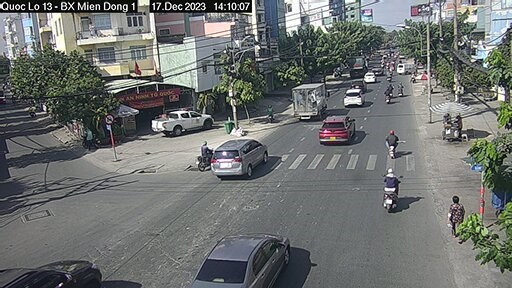car: (200, 231, 291, 288), (213, 138, 269, 176), (149, 108, 216, 137), (290, 82, 330, 119), (321, 115, 357, 145), (339, 87, 367, 107), (394, 59, 416, 77), (358, 72, 378, 86)
motorbike: (379, 170, 404, 219), (386, 131, 401, 158), (394, 81, 407, 98)
